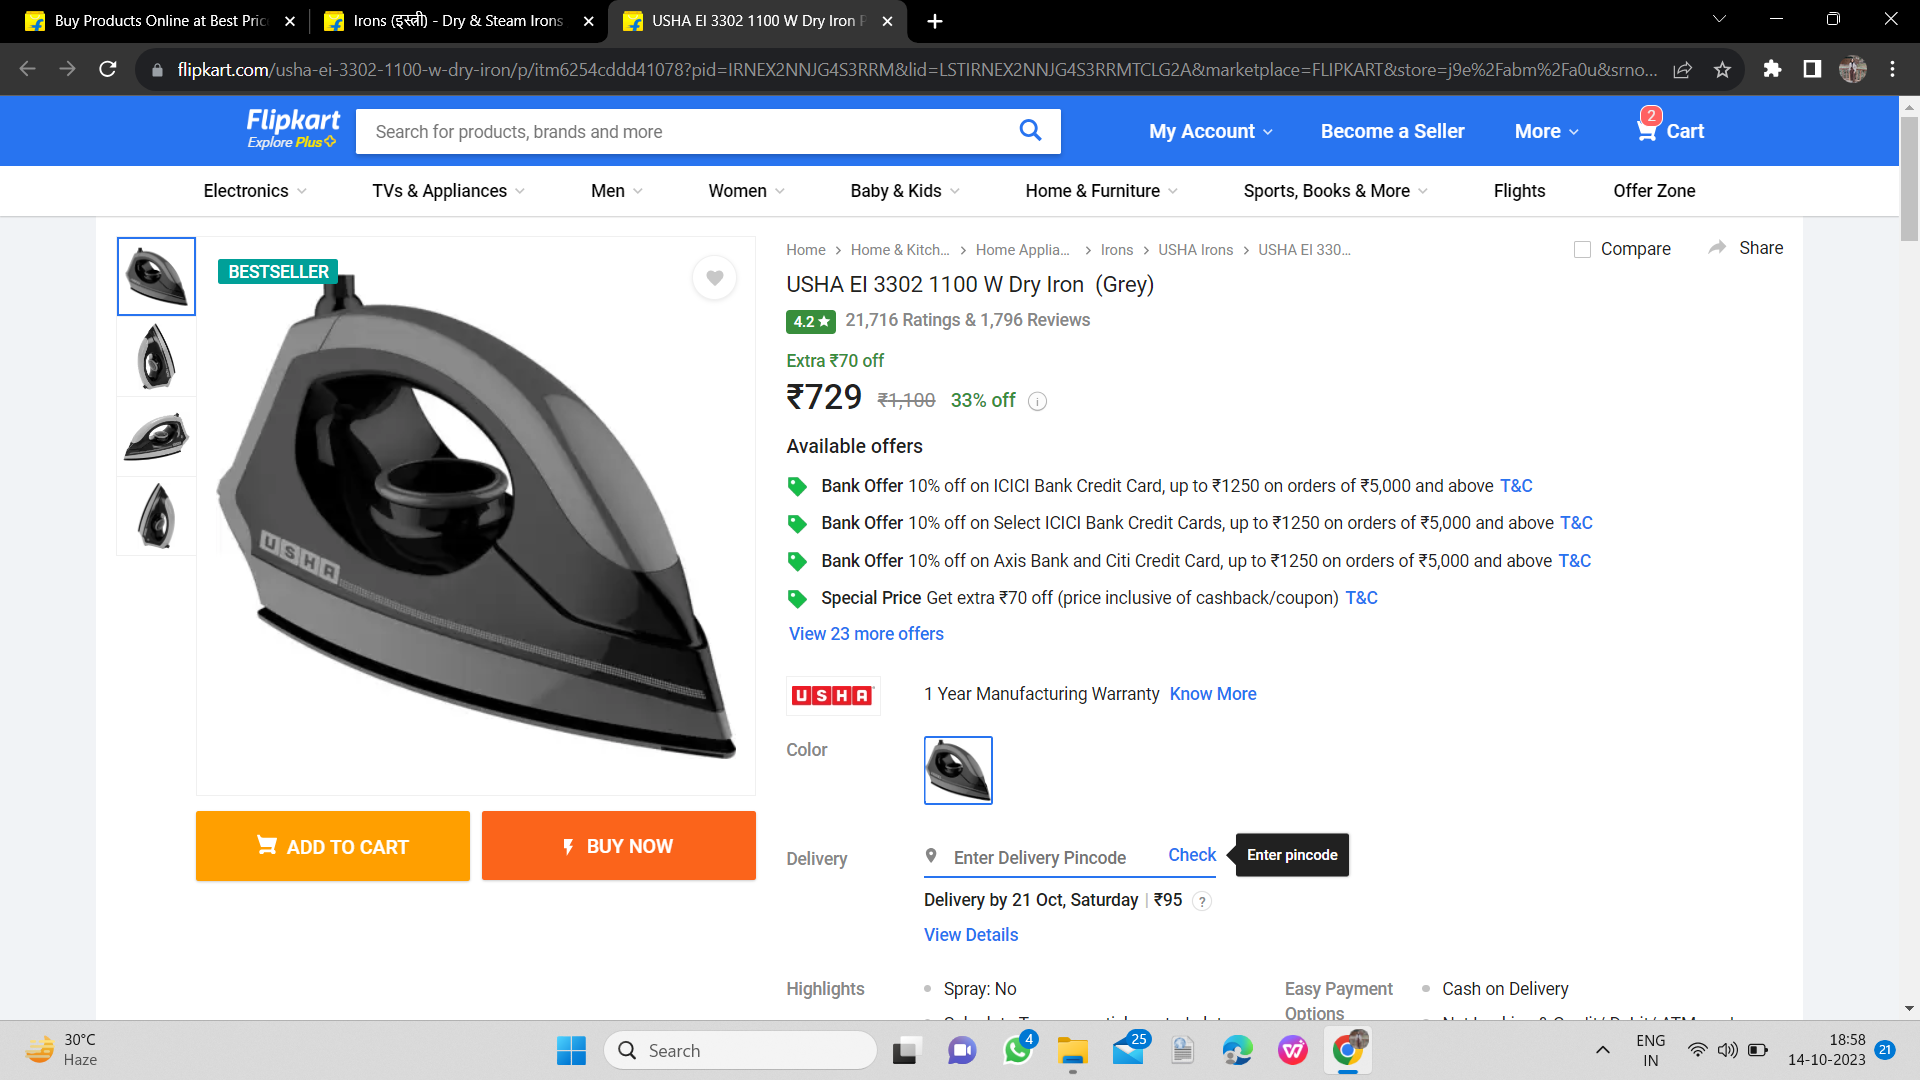Image: (200, 227, 753, 774)
Paragraph: (781, 468, 1607, 645), (785, 832, 1357, 940), (179, 796, 766, 899), (1143, 104, 1717, 152), (783, 340, 1058, 414), (781, 675, 1269, 716), (783, 733, 1001, 811), (783, 265, 1154, 305), (774, 967, 1038, 1004), (781, 306, 1098, 336), (1276, 980, 1590, 1004), (779, 431, 930, 458)
